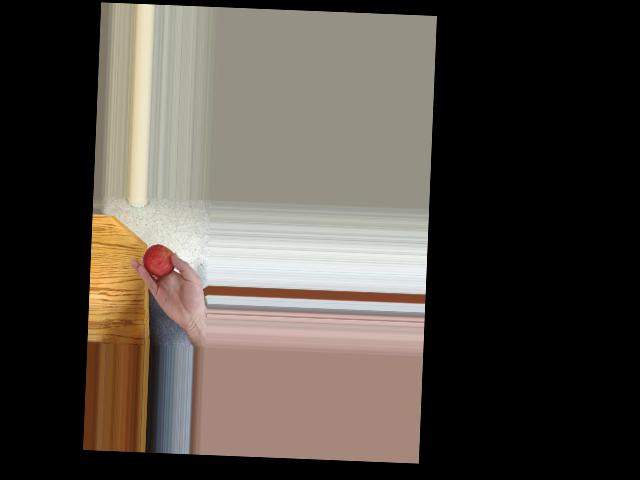apple: (142, 244, 176, 279)
